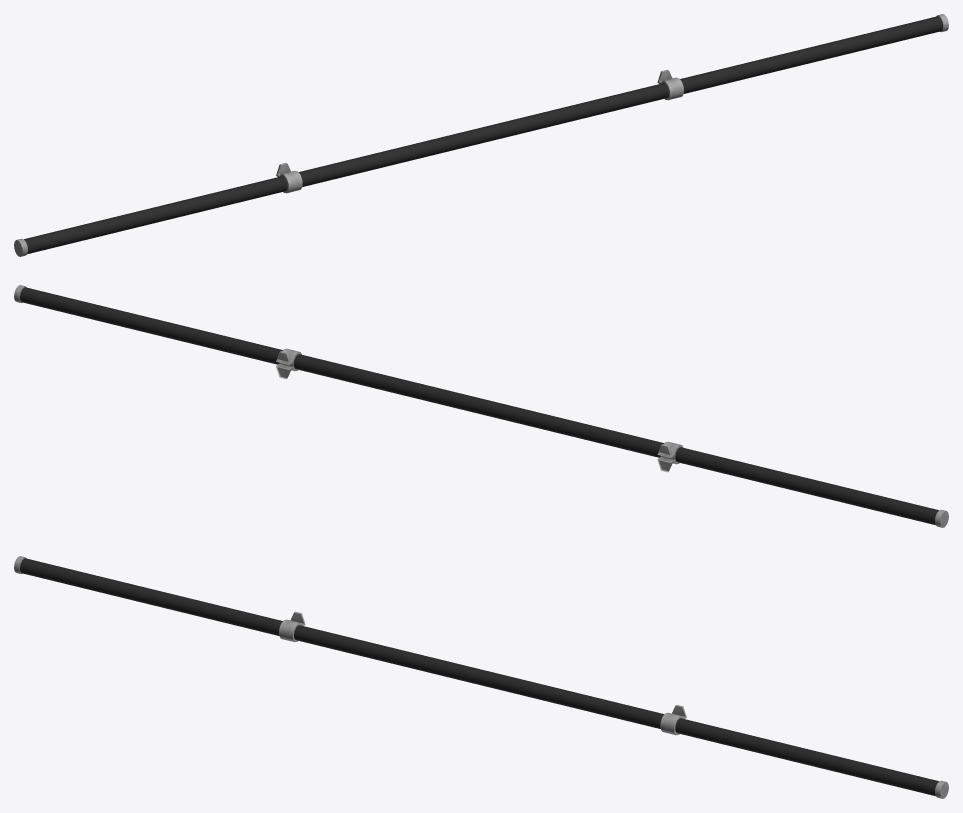
The model's file is Rigid_Conduit_1X_340cm.fbx.
3 views of the same model, one above another, from view 1: azimuth 30°, elevation 25°; view 2: azimuth 150°, elevation 25°; view 3: azimuth 330°, elevation 25° (orthographic).
Parts seen in each view (by area): view 1: Rigid_Conduit_1X_340cm; view 2: Rigid_Conduit_1X_340cm; view 3: Rigid_Conduit_1X_340cm.
Boxes of the visible parts, box(x1,y1,x2,y2) form: Rigid_Conduit_1X_340cm: box(14, 14, 948, 256); Rigid_Conduit_1X_340cm: box(14, 285, 948, 527); Rigid_Conduit_1X_340cm: box(14, 556, 948, 798).
Size of the model in its own units: 3.4 by 0.0894 by 0.0806.
